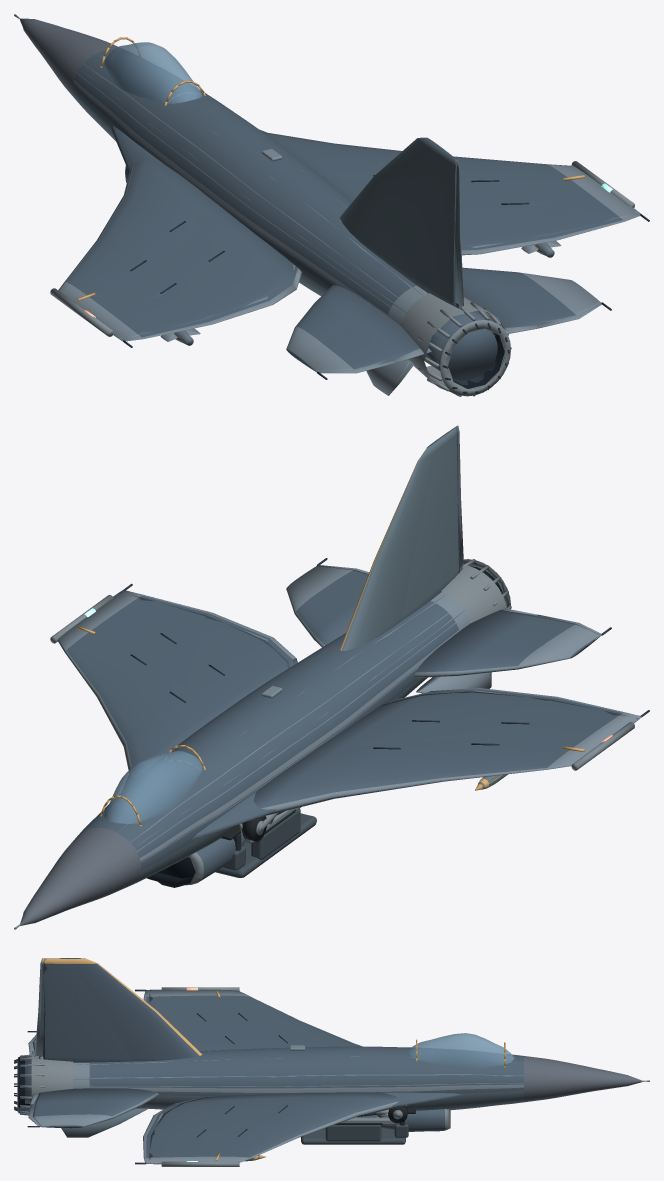
3 views of the same model, one above another, from view 1: azimuth 30°, elevation 25°; view 2: azimuth 150°, elevation 25°; view 3: azimuth 270°, elevation 25° (orthographic). The views are drawn at different scales.
Visible parts, largest first — view 1: Airframe shell mesh, Airframe shell.001 mesh, Airframe shell.002 mesh, Canopy glass, Canopy glass.001, Canopy glass.002, Hinged Rudder0, Hinged Aileron, Hinged Aileron.001; view 2: Airframe shell mesh, Airframe shell.001 mesh, Airframe shell.002 mesh, Canopy glass, Canopy glass.001, Cockpit shell mesh, Canopy glass.002; view 3: Airframe shell mesh, Airframe shell.001 mesh, Canopy glass, Canopy glass.001, Cockpit shell mesh, Airframe shell.002 mesh, Canopy glass.002, Hinged Rudder0, Gear_1 mesh.
Boxes of the visible parts, x1,y1,x2,y2 form: Airframe shell mesh: [14, 14, 649, 396]; Airframe shell.001 mesh: [24, 19, 640, 392]; Airframe shell.002 mesh: [20, 18, 638, 395]; Canopy glass: [104, 42, 202, 103]; Canopy glass.001: [104, 42, 201, 103]; Canopy glass.002: [106, 45, 200, 101]; Hinged Rudder0: [455, 161, 463, 306]; Hinged Aileron: [111, 285, 296, 341]; Hinged Aileron.001: [461, 214, 640, 255]; Airframe shell mesh: [14, 431, 649, 929]; Airframe shell.001 mesh: [20, 425, 640, 925]; Airframe shell.002 mesh: [20, 426, 638, 925]; Canopy glass: [104, 750, 202, 823]; Canopy glass.001: [104, 751, 201, 823]; Cockpit shell mesh: [169, 760, 316, 877]; Canopy glass.002: [105, 751, 201, 823]; Airframe shell mesh: [14, 958, 649, 1166]; Airframe shell.001 mesh: [18, 958, 630, 1165]; Canopy glass: [408, 1033, 513, 1068]; Canopy glass.001: [409, 1033, 512, 1068]; Cockpit shell mesh: [301, 1048, 420, 1144]; Airframe shell.002 mesh: [18, 958, 642, 1164]; Canopy glass.002: [411, 1033, 514, 1062]; Hinged Rudder0: [34, 958, 44, 1056]; Gear_1 mesh: [358, 1105, 407, 1123].
Bounding box in the file's own units: 10.07 × 4.55 × 15.32.
